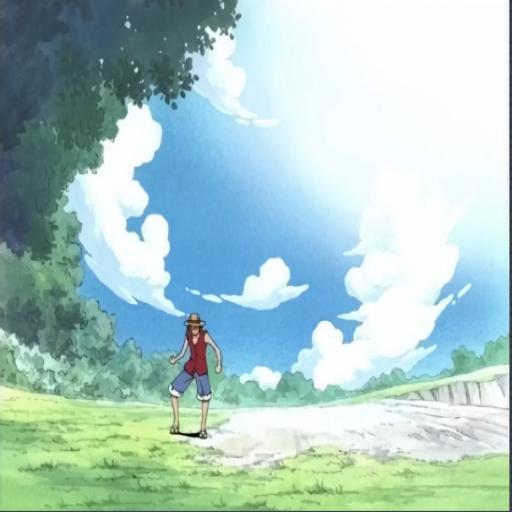Luffy: (159, 310, 228, 454)
